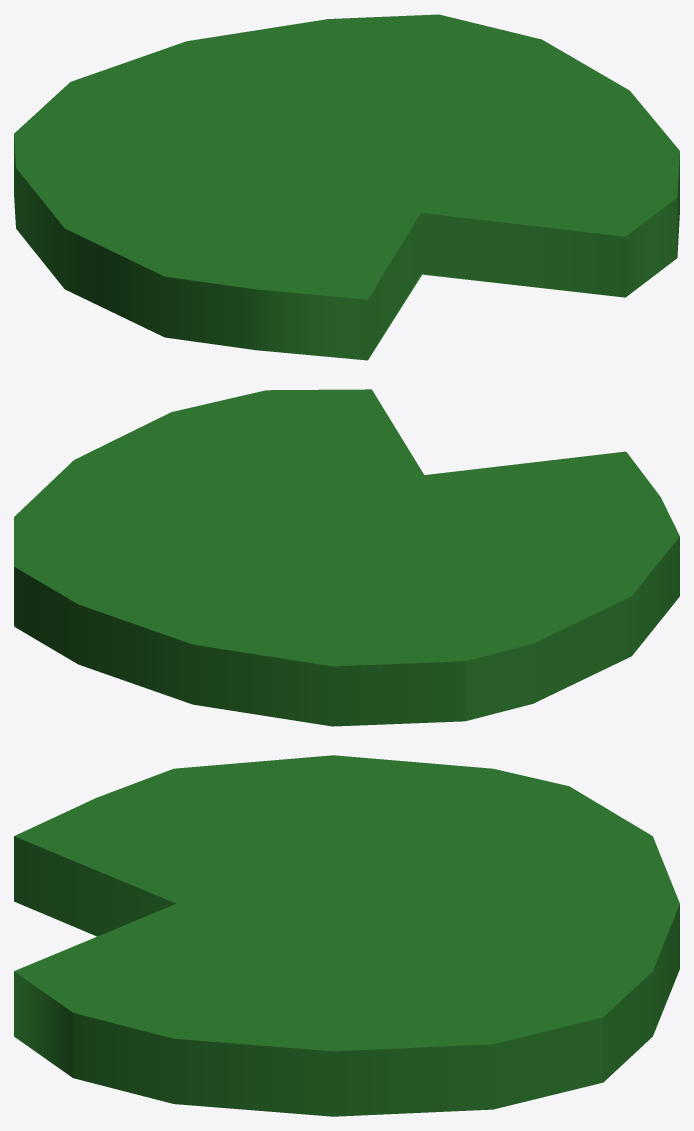
File: nenuphard.fbx
3 renders of one model, top to bottom at view 1: azimuth 30°, elevation 25°; view 2: azimuth 150°, elevation 25°; view 3: azimuth 270°, elevation 25°, orthographic. The views are drawn at different scales.
Visible parts, largest first — view 1: nenuphard; view 2: nenuphard; view 3: nenuphard.
Boxes of the visible parts, left/top/right/bottom form: nenuphard: left=14, top=14, right=679, bottom=360; nenuphard: left=14, top=389, right=679, bottom=726; nenuphard: left=14, top=755, right=679, bottom=1116.
Size of the model in its own units: 4.69 by 0.4823 by 4.46.
